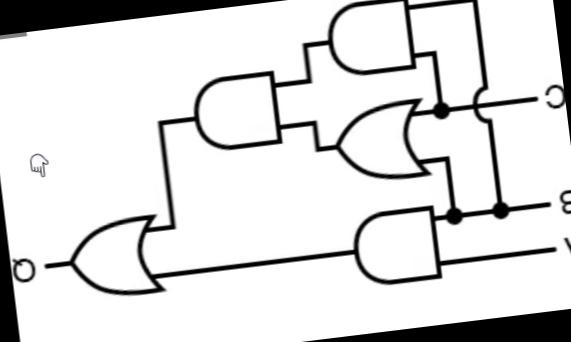and: (184, 62, 284, 162), (342, 200, 446, 292), (315, 0, 425, 82)
or: (59, 210, 174, 310), (322, 94, 435, 192)
